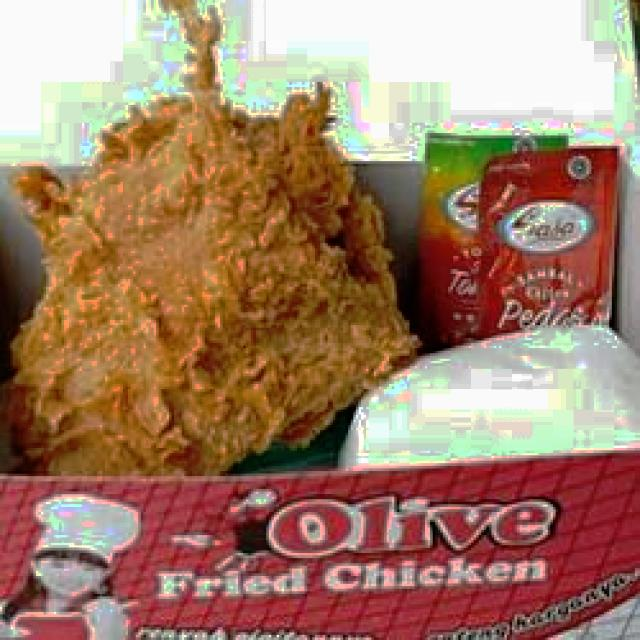fried_chicken: (8, 92, 417, 476)
